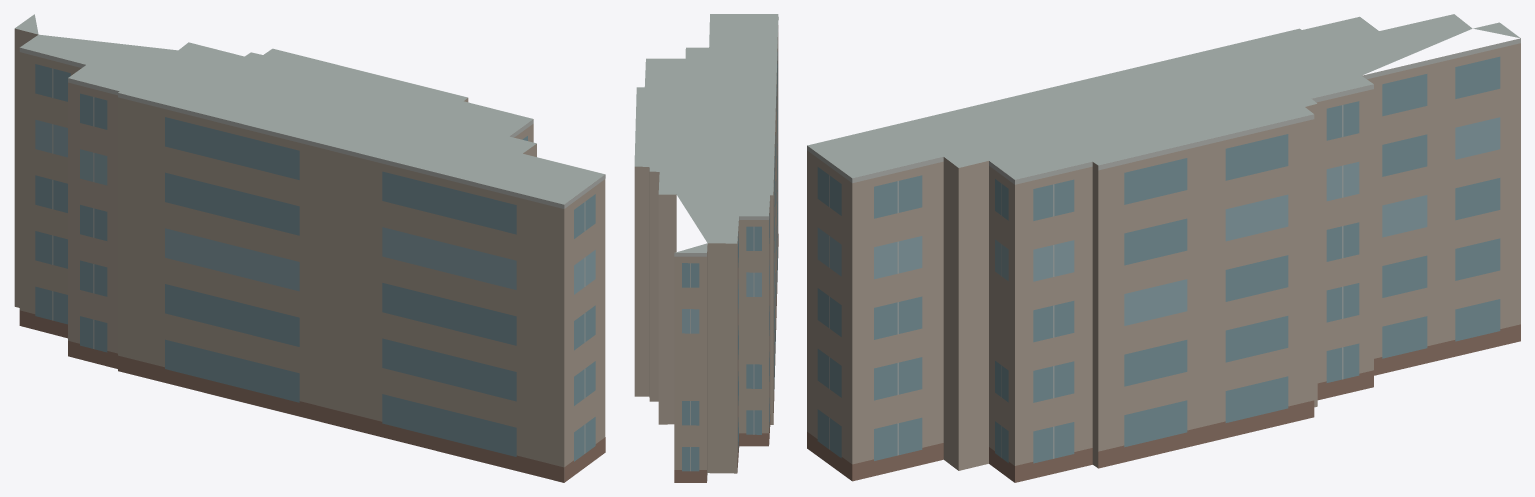
File: survey-upis-32989413.glb
The picture shows the model from 3 angles, left to right: view 1: azimuth 30°, elevation 25°; view 2: azimuth 150°, elevation 25°; view 3: azimuth 270°, elevation 25°; orthographic projection. The views are drawn at different scales.
Visible parts, largest first — view 1: survey-upis-32989413.tmp; view 2: survey-upis-32989413.tmp; view 3: survey-upis-32989413.tmp.
Boxes of the visible parts, x1,y1,x2,y2 form: survey-upis-32989413.tmp: (14, 14, 605, 482); survey-upis-32989413.tmp: (634, 14, 778, 482); survey-upis-32989413.tmp: (807, 14, 1520, 482).
Size of the model in its own units: 17.93 by 15.25 by 32.57.
